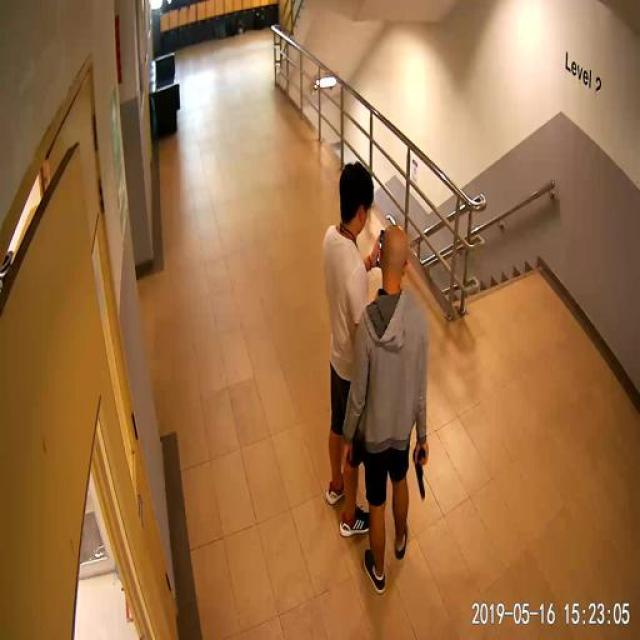Gun: (412, 442, 438, 499)
